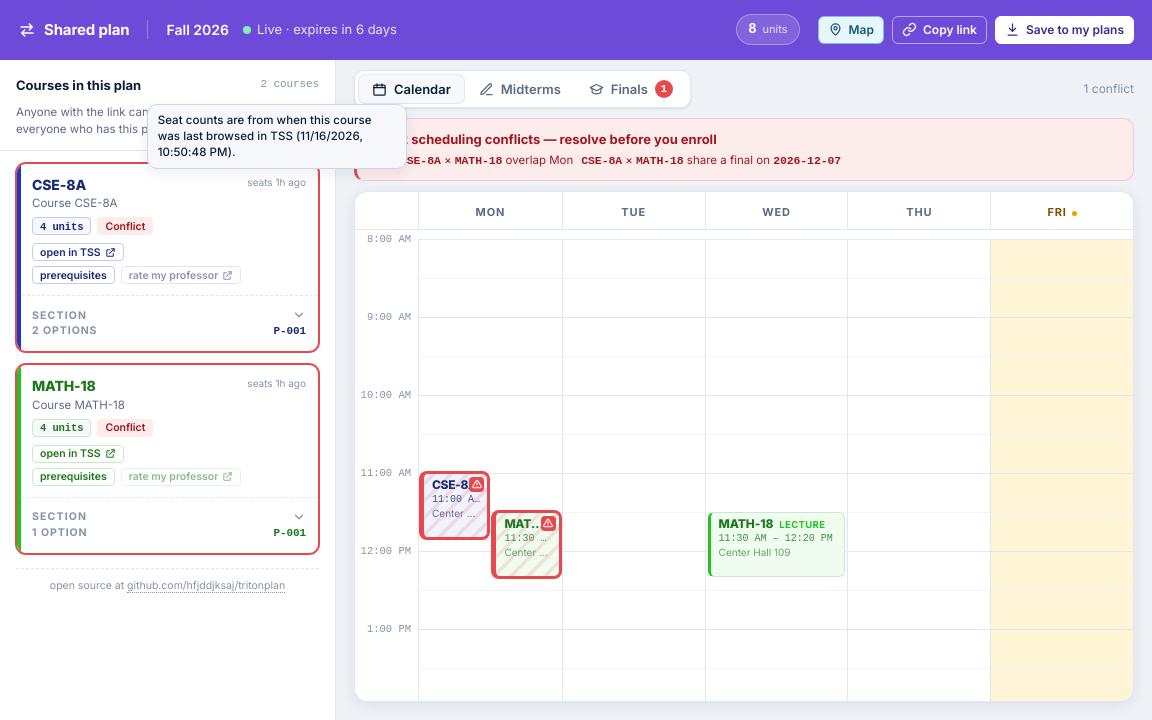
Test case: SharedPlanPage: Save to my plans › signed in, a new plan of the picked courses is saved, a toast says so, and the page stays and keeps polling
The image size is (1152, 720).
Click the button "Save to my plans" at (1064, 30), box [995,16,1134,44]
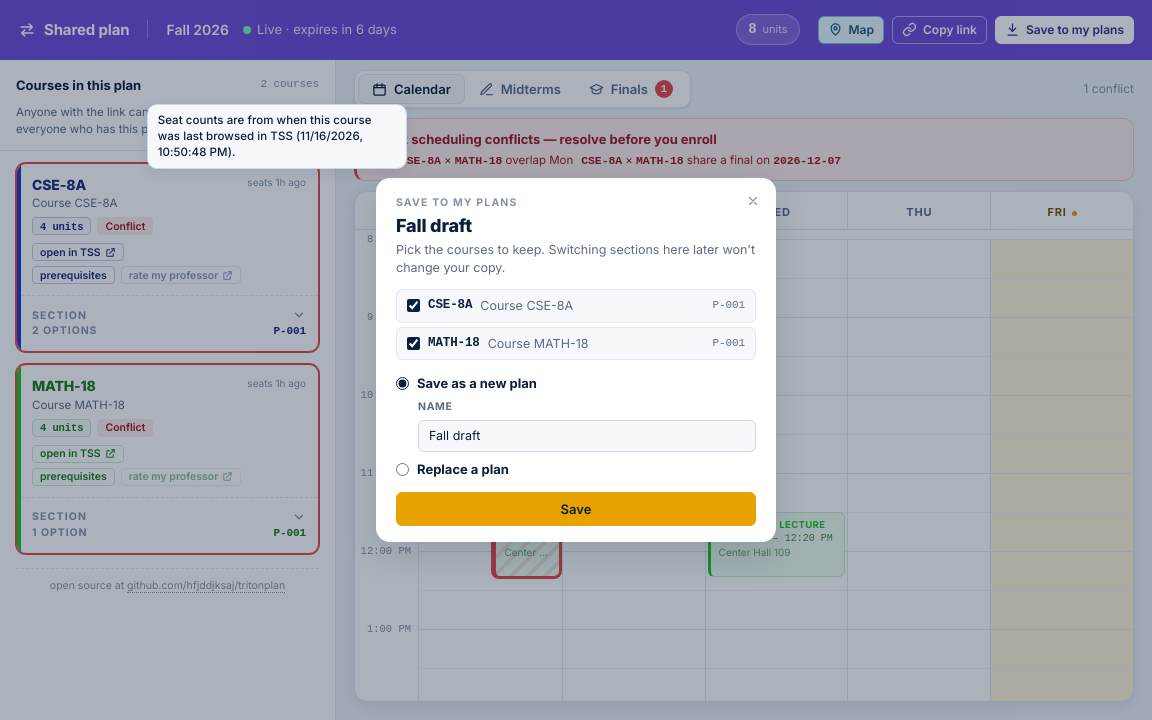
Now the dialog shows "Save as a new plan", box [417,375,537,391]
Click the checkbox labelled "MATH-18 Course MATH-18 P-001" at (414, 343), box [407,337,420,350]
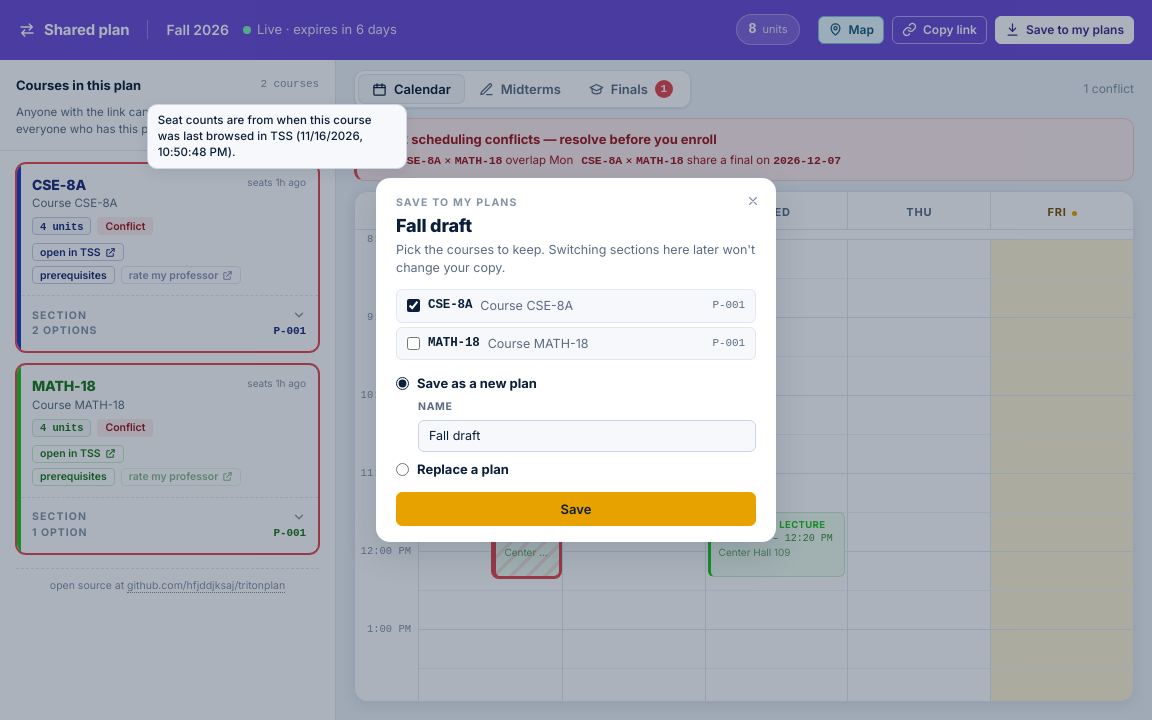
Click the button "Save" at (576, 509), box [396,492,756,526]
Wait 4000 ms
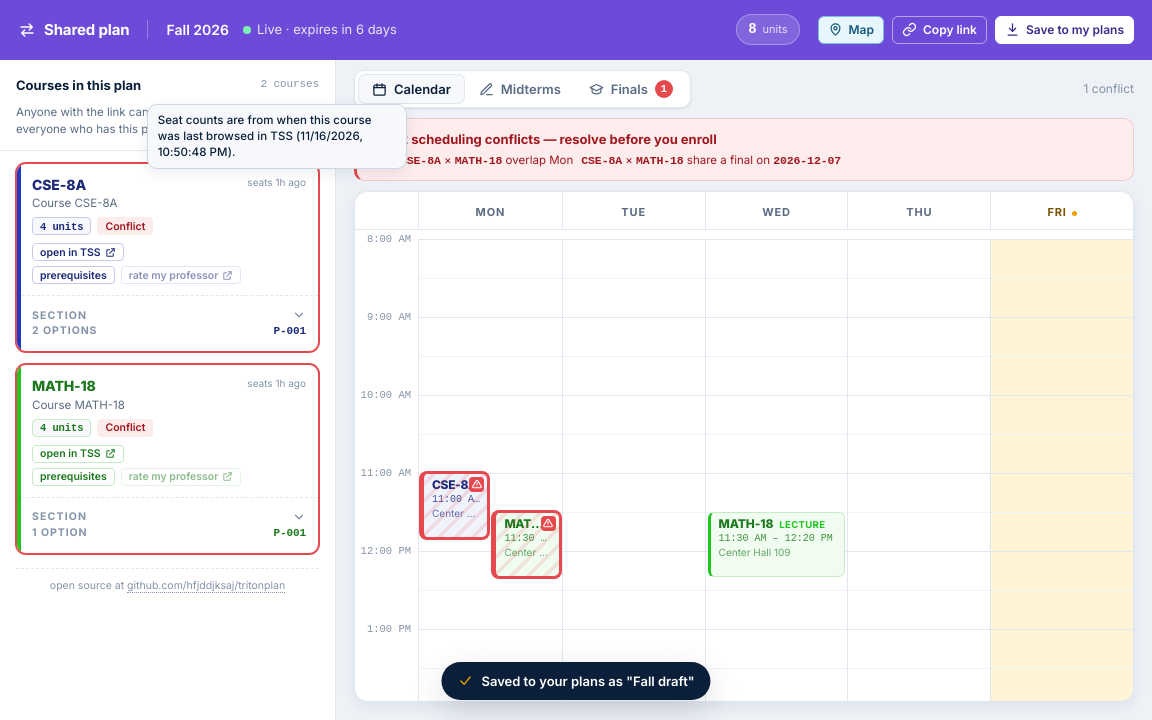
Expected: the header with class "topbar--shared" is shown, [0,0,1151,60]
Now the dialog is gone
Now the message with class "toast" reads "Saved to your plans as \"Fall draft\"", box [482,673,695,689]
